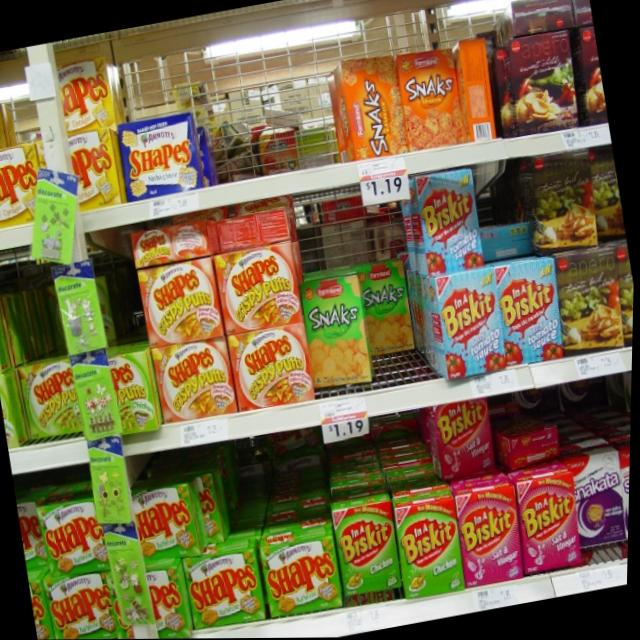q286: (396, 495, 472, 603), (330, 499, 409, 599)
